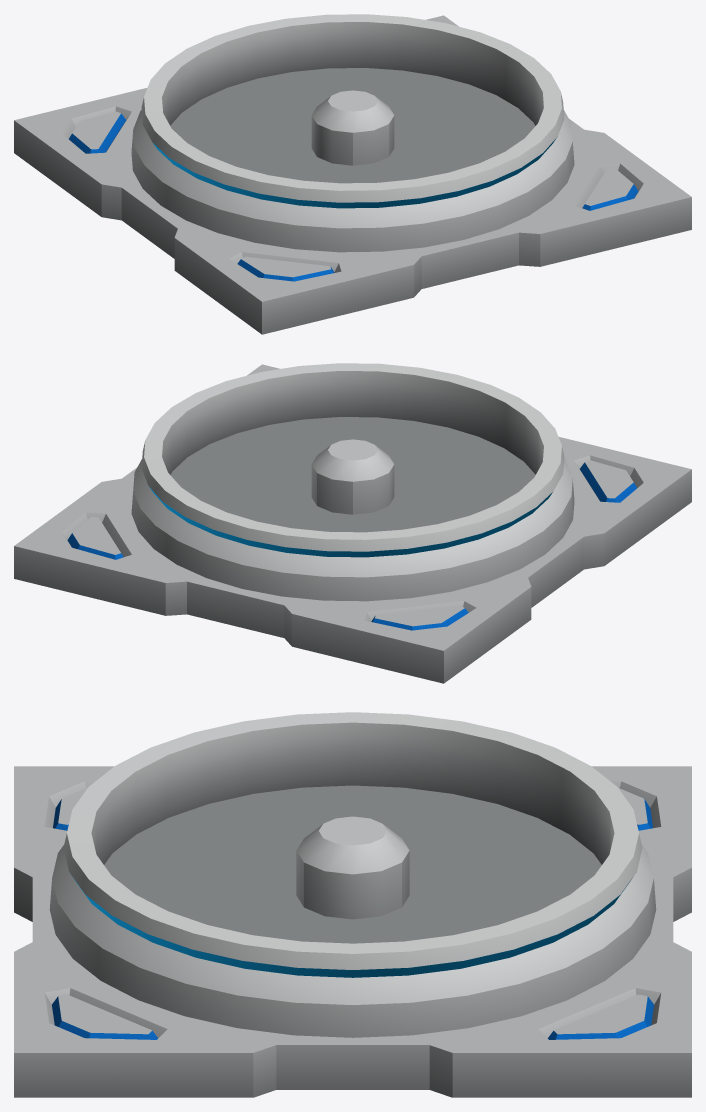
Rendered from Ventilation_008.fbx.
3 views of the same model, one above another, from view 1: azimuth 30°, elevation 25°; view 2: azimuth 150°, elevation 25°; view 3: azimuth 270°, elevation 25° (orthographic). The views are drawn at different scales.
Parts seen in each view (by area): view 1: Ventilation_008; view 2: Ventilation_008; view 3: Ventilation_008.
Part boxes in pixels (x1=…): Ventilation_008: x1=14, y1=14, x2=691, y2=334; Ventilation_008: x1=14, y1=363, x2=691, y2=683; Ventilation_008: x1=14, y1=712, x2=691, y2=1097.
Bounding box in the file's own units: 100 × 100 × 20.21.
